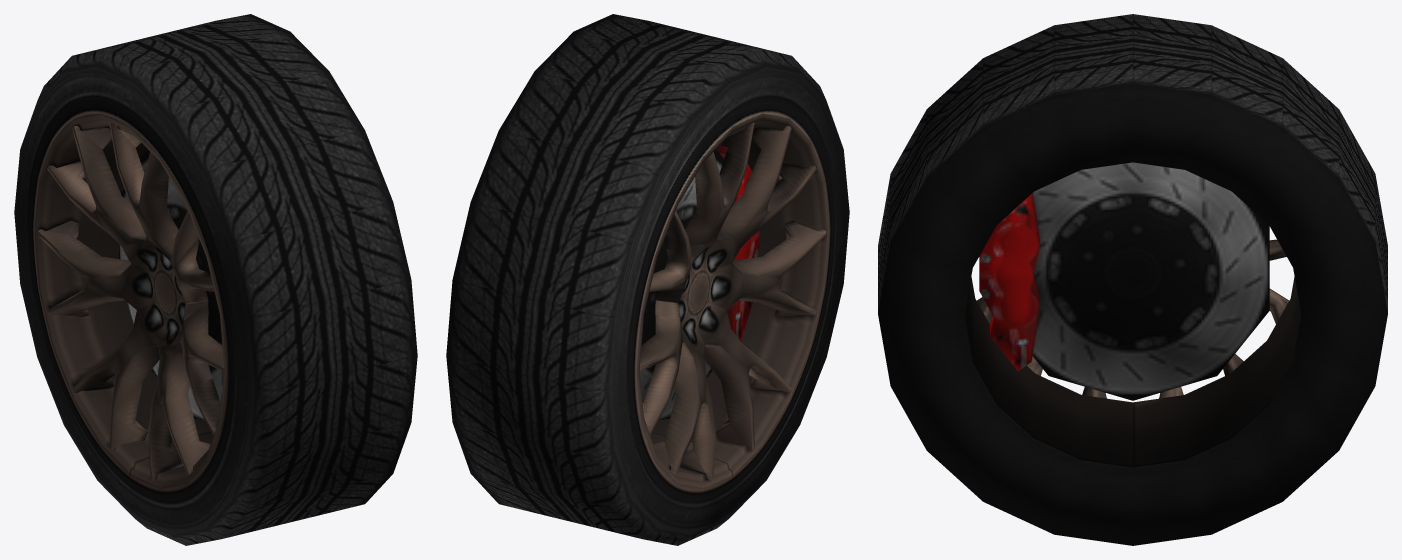
The model's file is WP06_wheelpack.glb.
The picture shows the model from 3 angles, left to right: view 1: azimuth 30°, elevation 25°; view 2: azimuth 150°, elevation 25°; view 3: azimuth 270°, elevation 25°; orthographic projection.
Parts seen in each view (by area): view 1: MOD_ND_WP06_tyre, MOD_ND_WP06_rim, MOD_ND_WP06_brakes; view 2: MOD_ND_WP06_tyre, MOD_ND_WP06_rim, MOD_ND_WP06_brakes; view 3: MOD_ND_WP06_tyre, MOD_ND_WP06_brakes, MOD_ND_WP06_rim.
Boxes of the visible parts, <box> form: MOD_ND_WP06_tyre: <box>14,14,417,545</box>; MOD_ND_WP06_rim: <box>34,113,227,489</box>; MOD_ND_WP06_brakes: <box>119,150,223,419</box>; MOD_ND_WP06_tyre: <box>446,14,849,545</box>; MOD_ND_WP06_rim: <box>636,113,829,489</box>; MOD_ND_WP06_brakes: <box>640,145,759,419</box>; MOD_ND_WP06_tyre: <box>878,14,1387,545</box>; MOD_ND_WP06_brakes: <box>979,162,1269,400</box>; MOD_ND_WP06_rim: <box>964,239,1301,467</box>.
Bounding box in the file's own units: 0.2316 × 0.6414 × 0.6414.
2 materials, 2 textured.
